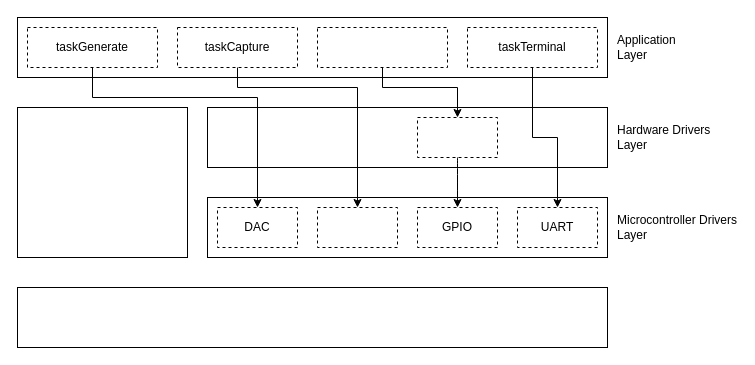
The diagram is 755 pixels wide and 365 high, and some of its shapes have lost their labels. The shapes that lost their labels are listed below. From the top down, each one's centre as x and y in pixels, then its label:
pixel 382 47: taskPlot
pixel 457 137: GLCD
pixel 102 182: Real-time operating system (FreeRTOS)
pixel 357 227: ADC
pixel 312 317: Microcontroller (LPC2138)
